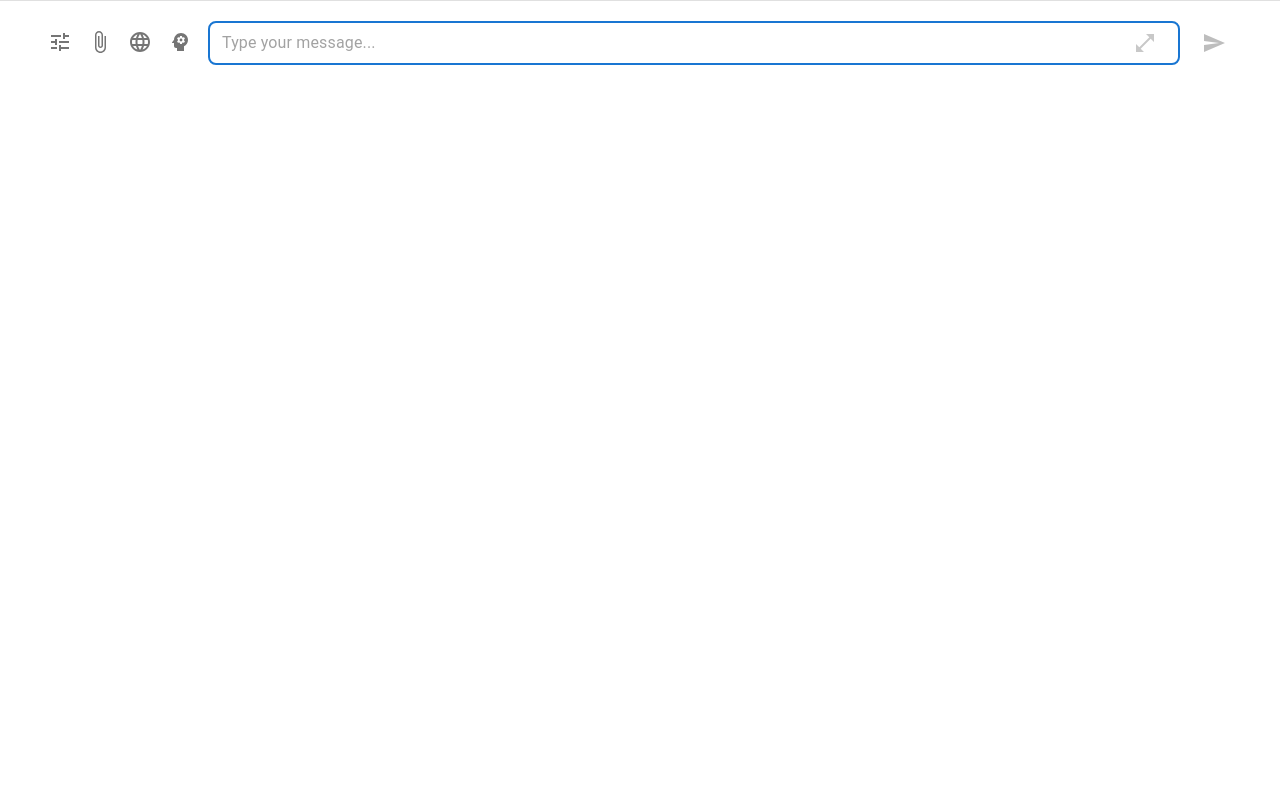
Composer › shows reasoning effort toggle when model supports reasoning
This screenshot has width=1280, height=800.
Click the button named "Chat settings" at (60, 42), box 40,22 -> 80,62
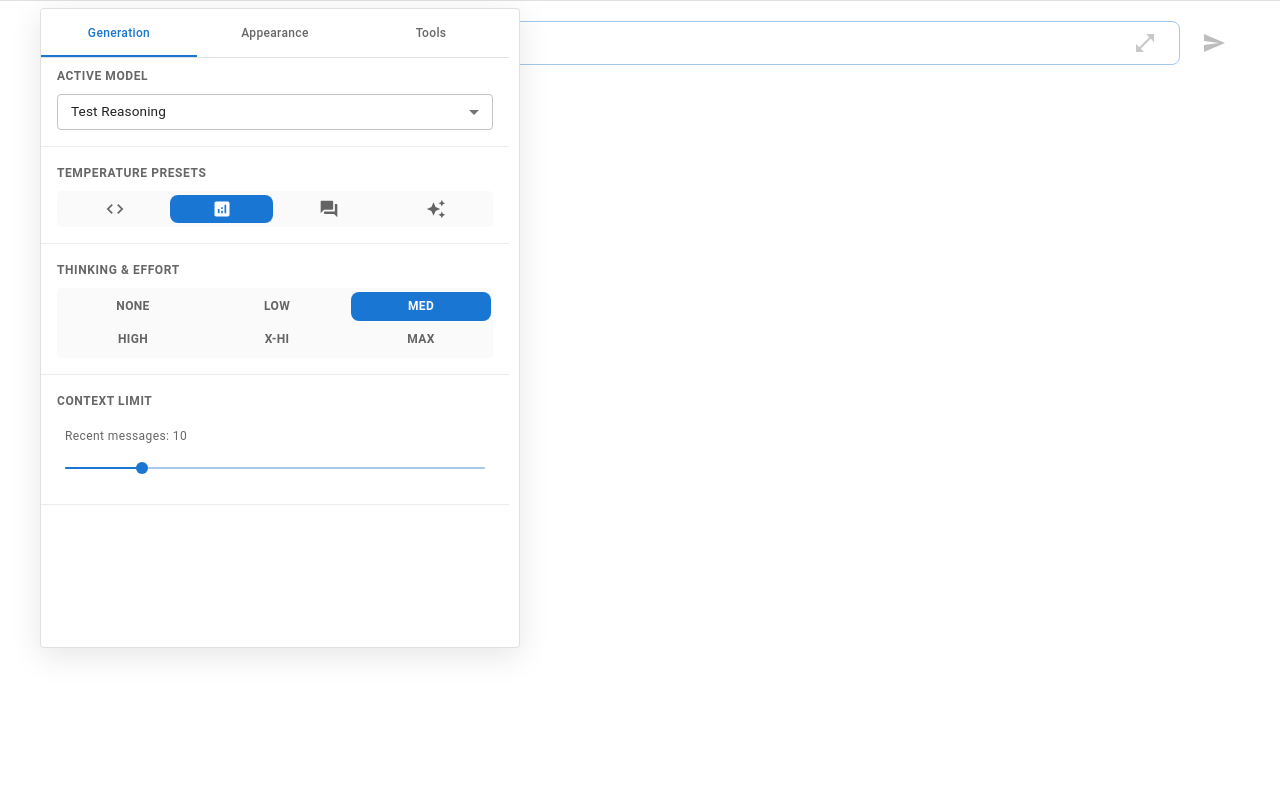
Check: the text "High" is shown, box 118,328 -> 148,350
Check: the text "Max" is shown, box 407,328 -> 435,350
